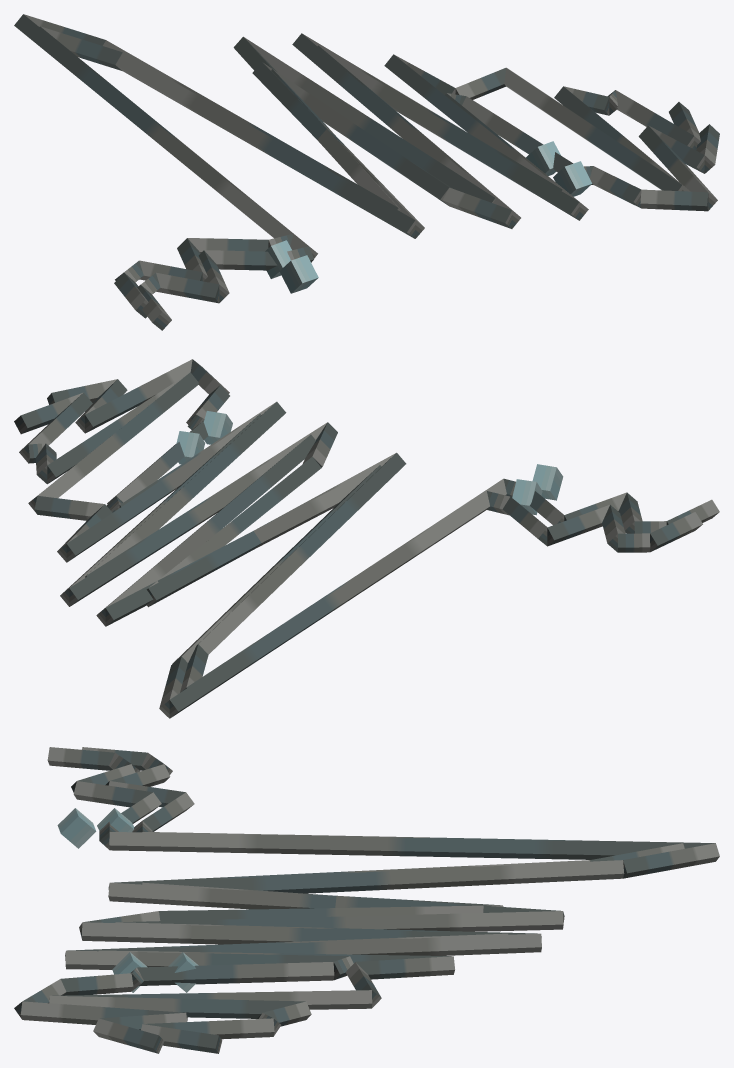
File: pz_native_electrical_204.obj
The picture shows the model from 3 angles, top to bottom: view 1: azimuth 30°, elevation 25°; view 2: azimuth 150°, elevation 25°; view 3: azimuth 270°, elevation 25°; orthographic projection. The views are drawn at different scales.
Visible parts, largest first — view 1: conduit, conduit_end; view 2: conduit, conduit_end; view 3: conduit, conduit_end.
Boxes of the visible parts, x1=… form: conduit: x1=14, y1=14, x2=719, y2=322; conduit_end: x1=115, y1=88, x2=717, y2=330; conduit: x1=20, y1=359, x2=719, y2=717; conduit_end: x1=14, y1=386, x2=668, y2=718; conduit: x1=20, y1=747, x2=719, y2=1053; conduit_end: x1=14, y1=764, x2=626, y2=1053.
Bounding box in the file's own units: 0.82 × 0.042 × 0.8246.
1 material, 1 textured.
